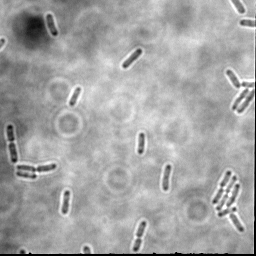Dividing: (130, 219, 149, 253), (234, 88, 255, 115), (6, 123, 20, 163), (15, 161, 57, 174), (230, 87, 250, 111)
Microcolony: (210, 169, 245, 232)
Rod: (121, 46, 144, 71), (44, 12, 60, 38), (59, 188, 73, 216), (160, 162, 173, 192), (225, 68, 242, 90), (68, 85, 83, 108), (14, 170, 38, 181), (136, 131, 147, 155)
